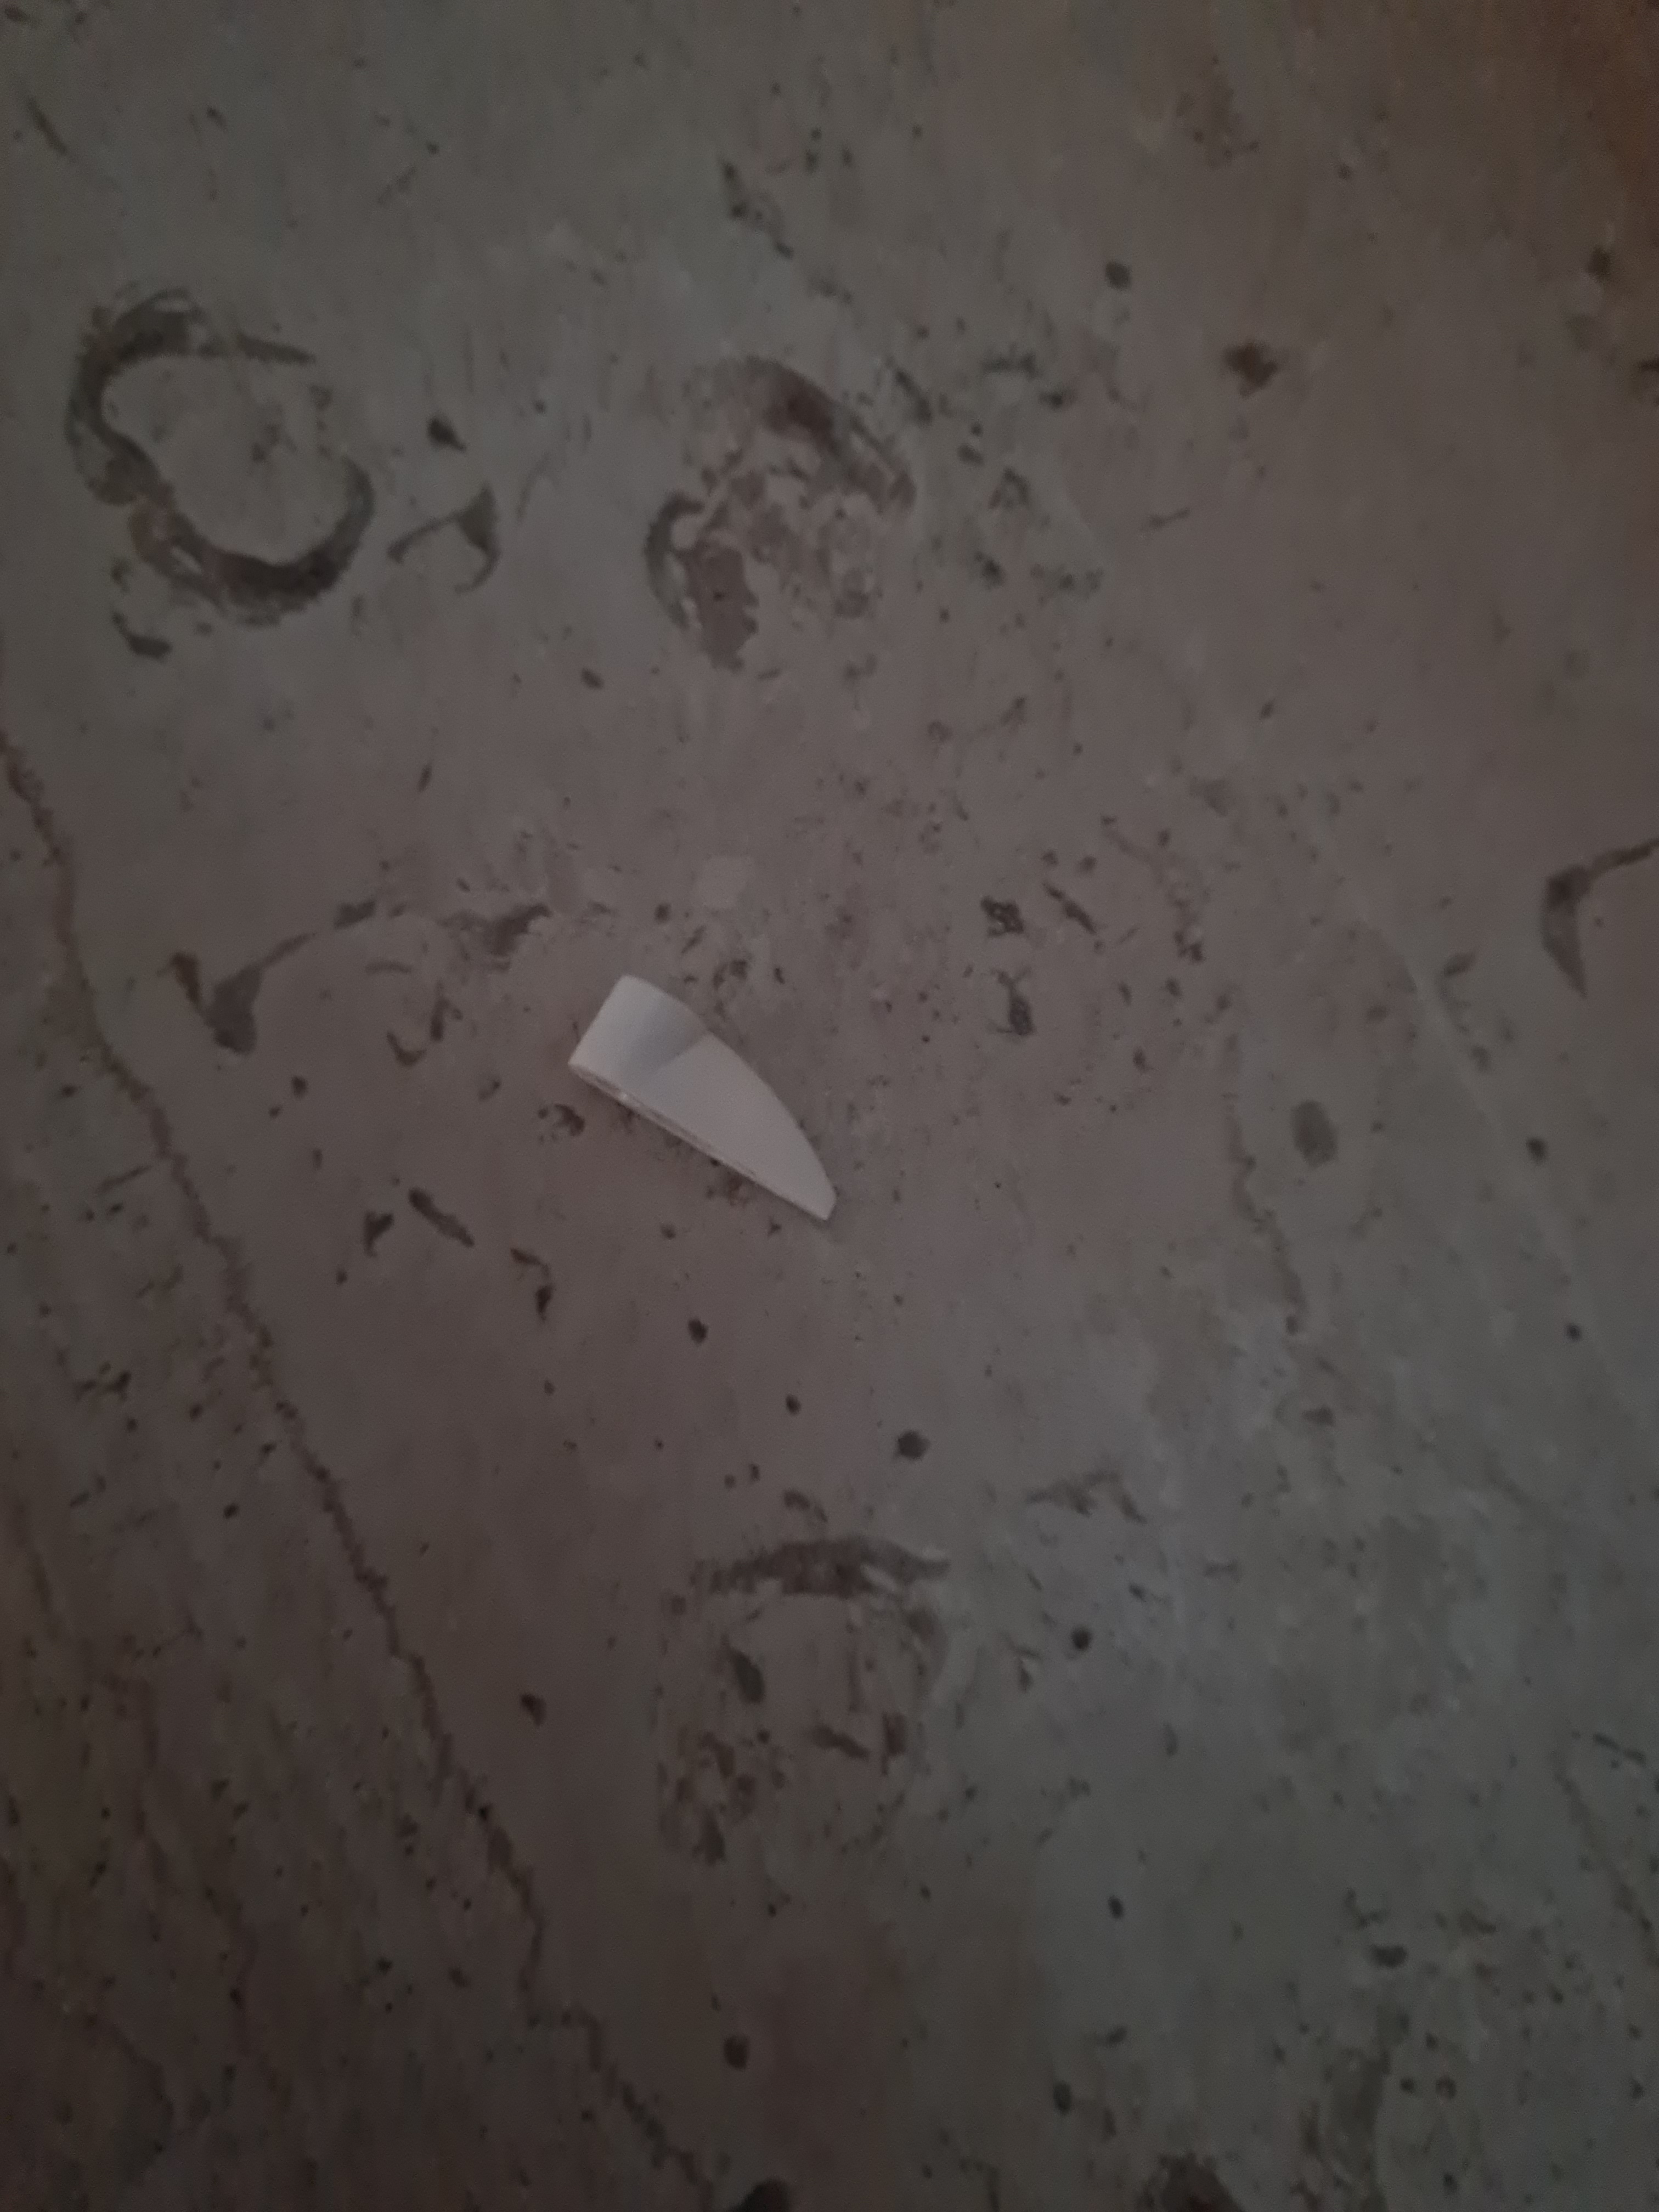Kappe: (570, 972, 845, 1226)
